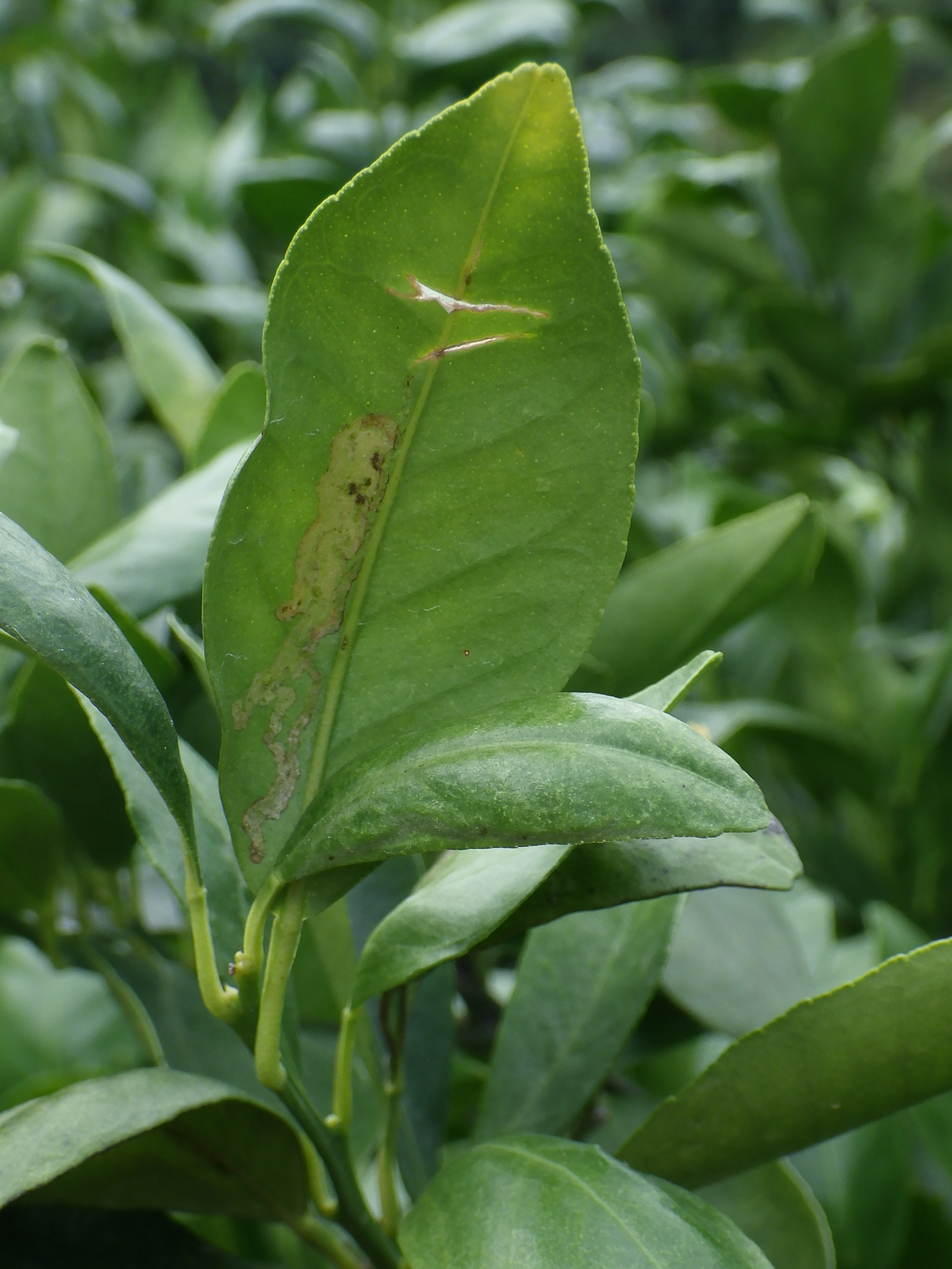Citrus_Leaf_Miner: (233, 414, 396, 862)
